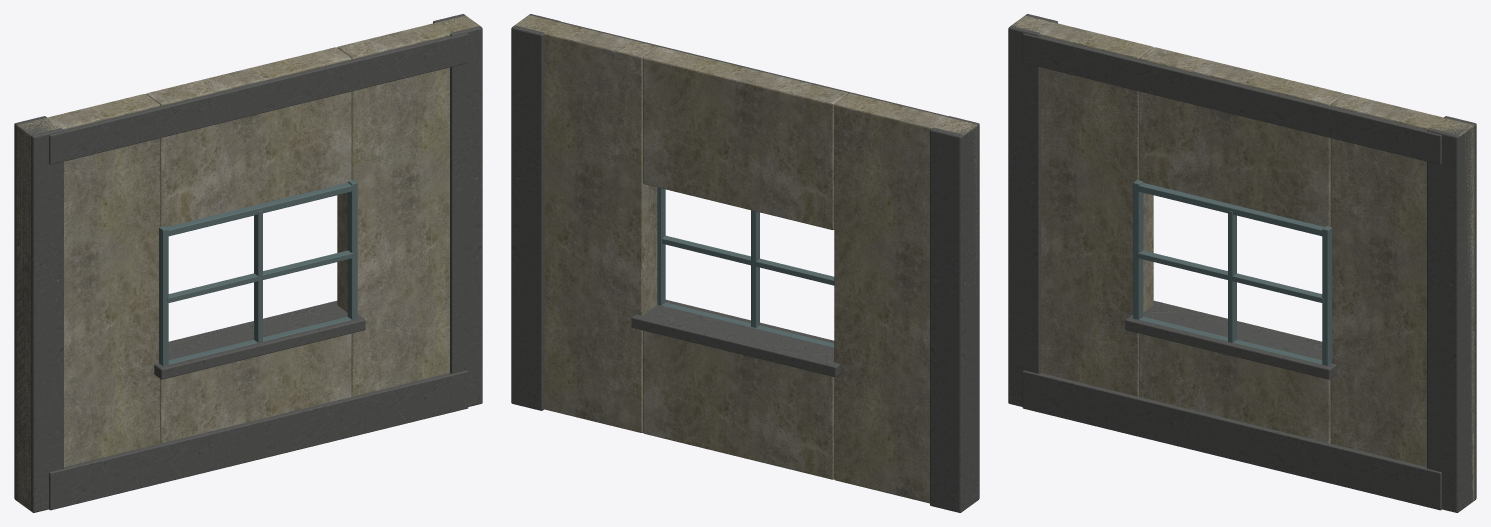
The model's file is wall_window_4m.glb.
3 views of the same model, side by side, from view 1: azimuth 30°, elevation 25°; view 2: azimuth 150°, elevation 25°; view 3: azimuth 330°, elevation 25° (orthographic).
Visible parts, largest first — view 1: Window masonry pier, Window masonry pier.001, Window lintel, Foundation band.002, Cast concrete edge pier.004, Upper concrete ring beam.001, Window sill masonry, Cast concrete edge pier.005, Projecting concrete sill, Steel window rail.001, Window horizontal mullion, Steel window jamb.001 (+3 smaller); view 2: Window masonry pier.001, Window masonry pier, Window lintel, Window sill masonry, Cast concrete edge pier.004, Cast concrete edge pier.005, Projecting concrete sill, Window horizontal mullion, Steel window jamb.001, Window centre mullion, Steel window rail, Upper concrete ring beam.001; view 3: Window masonry pier.001, Window masonry pier, Window lintel, Cast concrete edge pier.005, Foundation band.002, Upper concrete ring beam.001, Window sill masonry, Cast concrete edge pier.004, Projecting concrete sill, Steel window rail.001, Window horizontal mullion, Steel window jamb (+3 smaller).
Boxes of the visible parts, left/top/right/bottom form: Window masonry pier: left=16, top=94, right=160, bottom=510; Window masonry pier.001: left=337, top=15, right=478, bottom=396; Window lintel: left=146, top=47, right=351, bottom=226; Foundation band.002: left=49, top=370, right=468, bottom=510; Cast concrete edge pier.004: left=14, top=116, right=63, bottom=512; Upper concrete ring beam.001: left=49, top=33, right=468, bottom=164; Window sill masonry: left=160, top=333, right=351, bottom=443; Cast concrete edge pier.005: left=433, top=14, right=482, bottom=406; Projecting concrete sill: left=154, top=300, right=365, bottom=379; Steel window rail.001: left=164, top=182, right=356, bottom=236; Window horizontal mullion: left=167, top=250, right=353, bottom=303; Steel window jamb.001: left=347, top=180, right=357, bottom=319; Window masonry pier.001: left=514, top=15, right=657, bottom=432; Window masonry pier: left=834, top=93, right=977, bottom=510; Window lintel: left=643, top=46, right=848, bottom=229; Window sill masonry: left=643, top=330, right=834, bottom=479; Cast concrete edge pier.004: left=930, top=116, right=979, bottom=512; Cast concrete edge pier.005: left=511, top=14, right=560, bottom=410; Projecting concrete sill: left=631, top=299, right=840, bottom=377; Window horizontal mullion: left=662, top=235, right=834, bottom=285; Steel window jamb.001: left=657, top=187, right=665, bottom=305; Window centre mullion: left=751, top=210, right=759, bottom=327; Steel window rail: left=662, top=302, right=834, bottom=347; Upper concrete ring beam.001: left=561, top=21, right=947, bottom=116; Window masonry pier.001: left=1330, top=94, right=1474, bottom=510; Window masonry pier: left=1012, top=15, right=1153, bottom=396; Window lintel: left=1139, top=47, right=1344, bottom=226; Cast concrete edge pier.005: left=1427, top=116, right=1476, bottom=512; Foundation band.002: left=1022, top=370, right=1441, bottom=510; Upper concrete ring beam.001: left=1022, top=33, right=1441, bottom=164; Window sill masonry: left=1139, top=333, right=1330, bottom=443; Cast concrete edge pier.004: left=1008, top=14, right=1057, bottom=406; Projecting concrete sill: left=1125, top=300, right=1336, bottom=379; Steel window rail.001: left=1138, top=182, right=1323, bottom=236; Window horizontal mullion: left=1137, top=250, right=1323, bottom=303; Steel window jamb: left=1133, top=180, right=1143, bottom=319.
Size of the model in its own units: 4 by 3.2 by 0.42.
3 materials, 2 textured.
